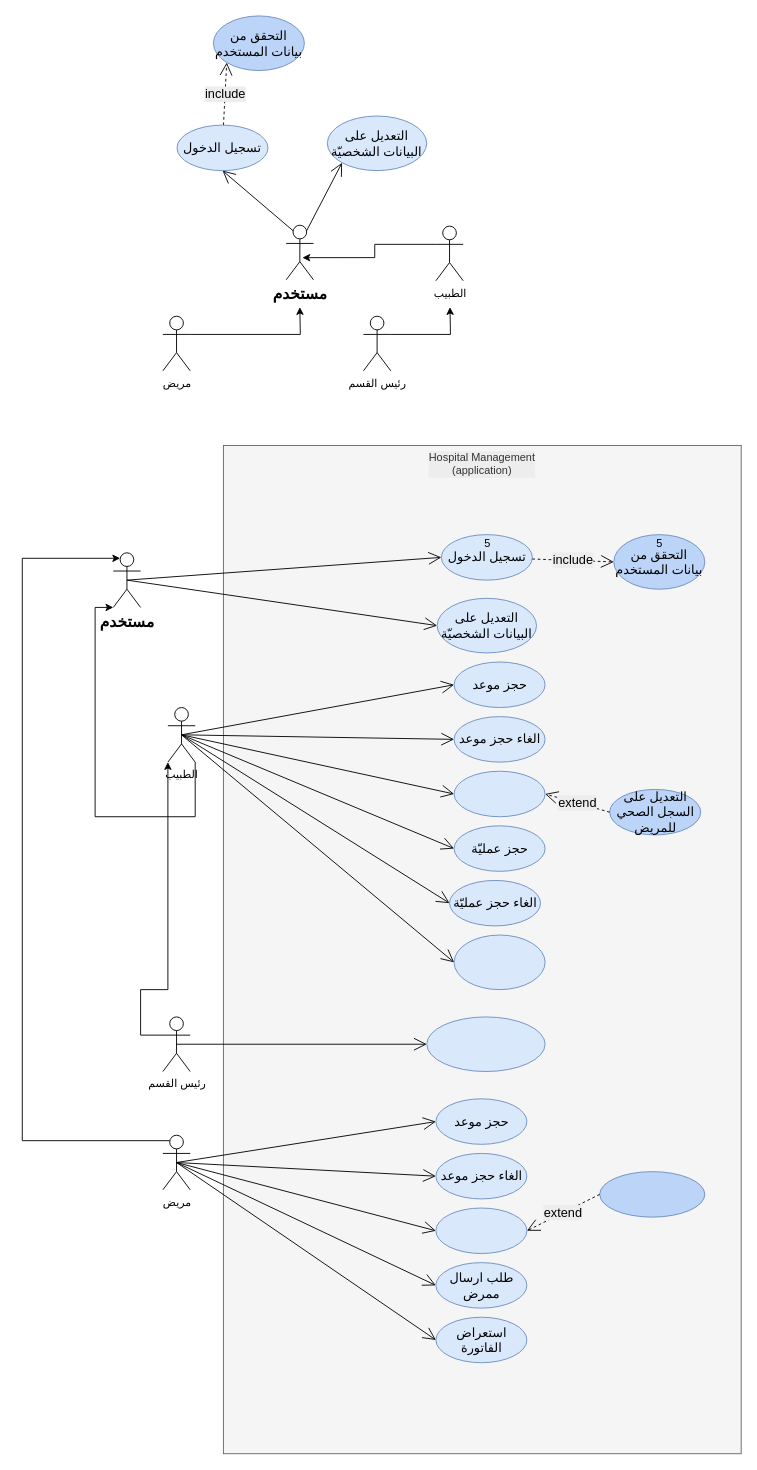
Image size: 757x1470. Some labels were removed from this diagram. Here are the shapes that lost their labels. From the top down, the centre of each, then its label:
At [499,793]: "عرضى المرضى المسؤول عنهم".
At [499,962]: "استعراض مواعيد المعاينات والعمليات".
At [485,1044]: "إدارة الموظفين المسؤول عنهم".
At [652,1194]: "استعراض الفحوصات الطبيّة".
At [481,1230]: "استعراض الملف الطبي".
